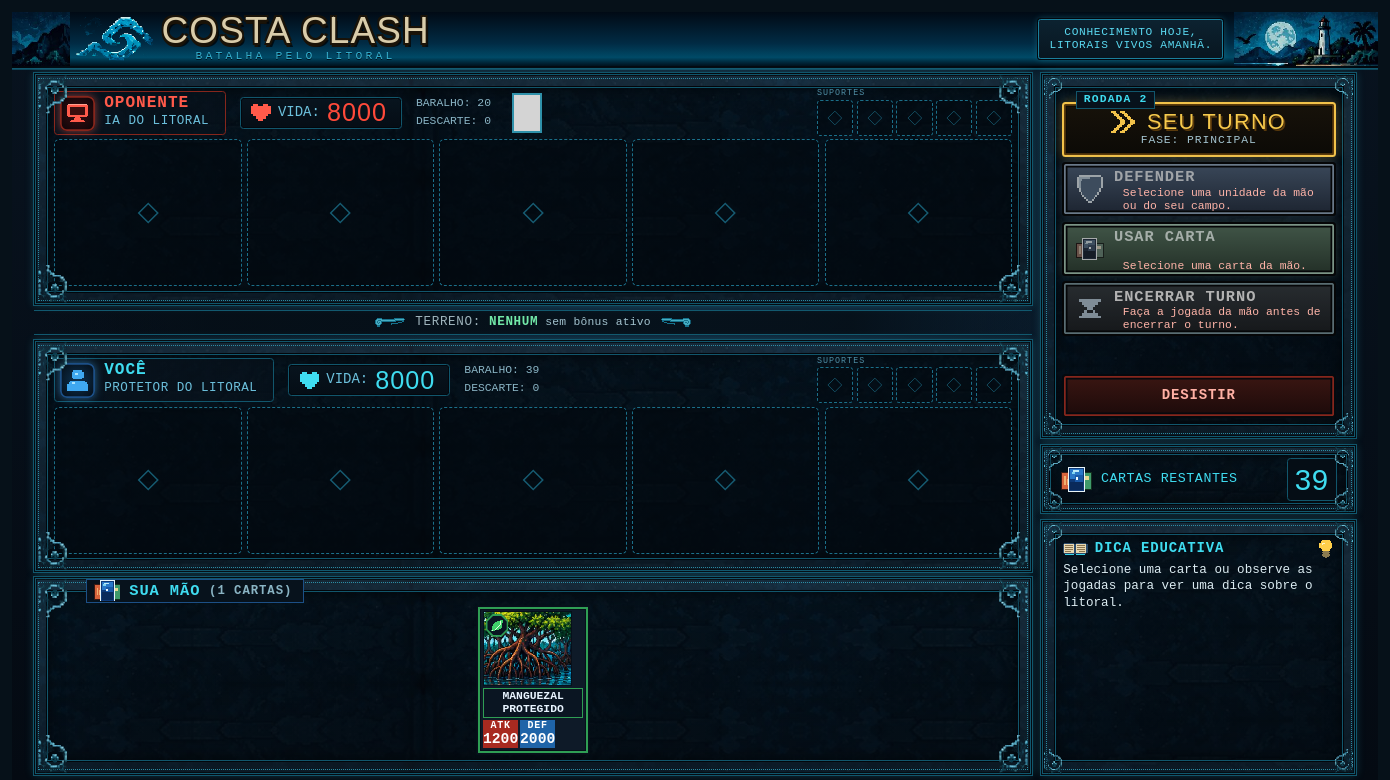
Test: mão em leque e inspeção ampliada › no toque curto seleciona e inspeciona; toque fora fecha sem apagar a seleção
Click the button with aria-label "Mão 1:" at (533, 680), box top-left (478, 607), bottom-right (588, 753)
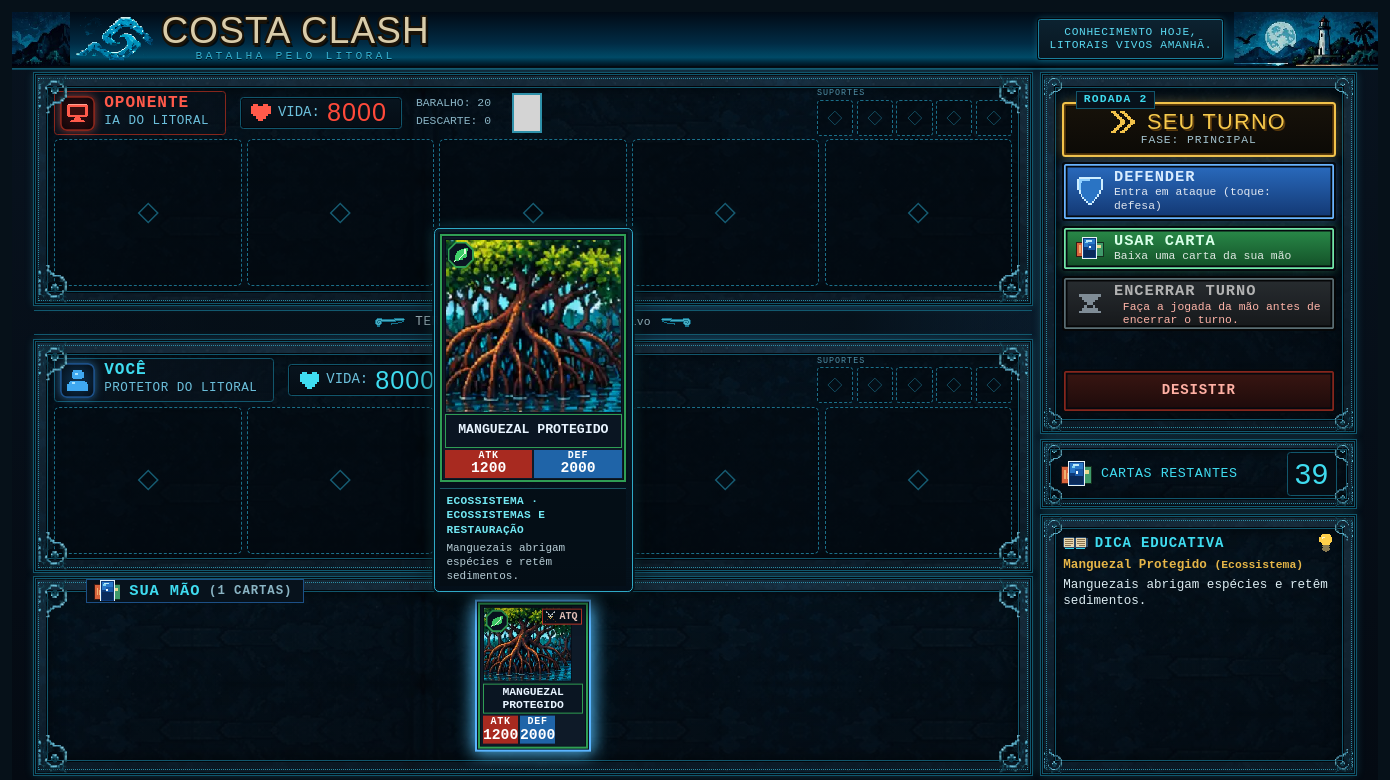
Expected: the button with aria-label "Mão 1:" is pressed, top-left (478, 602), bottom-right (588, 748)
Press the mouse on the element that starts with "Costa Clash" at (695, 396), box top-left (12, 12), bottom-right (1378, 779)
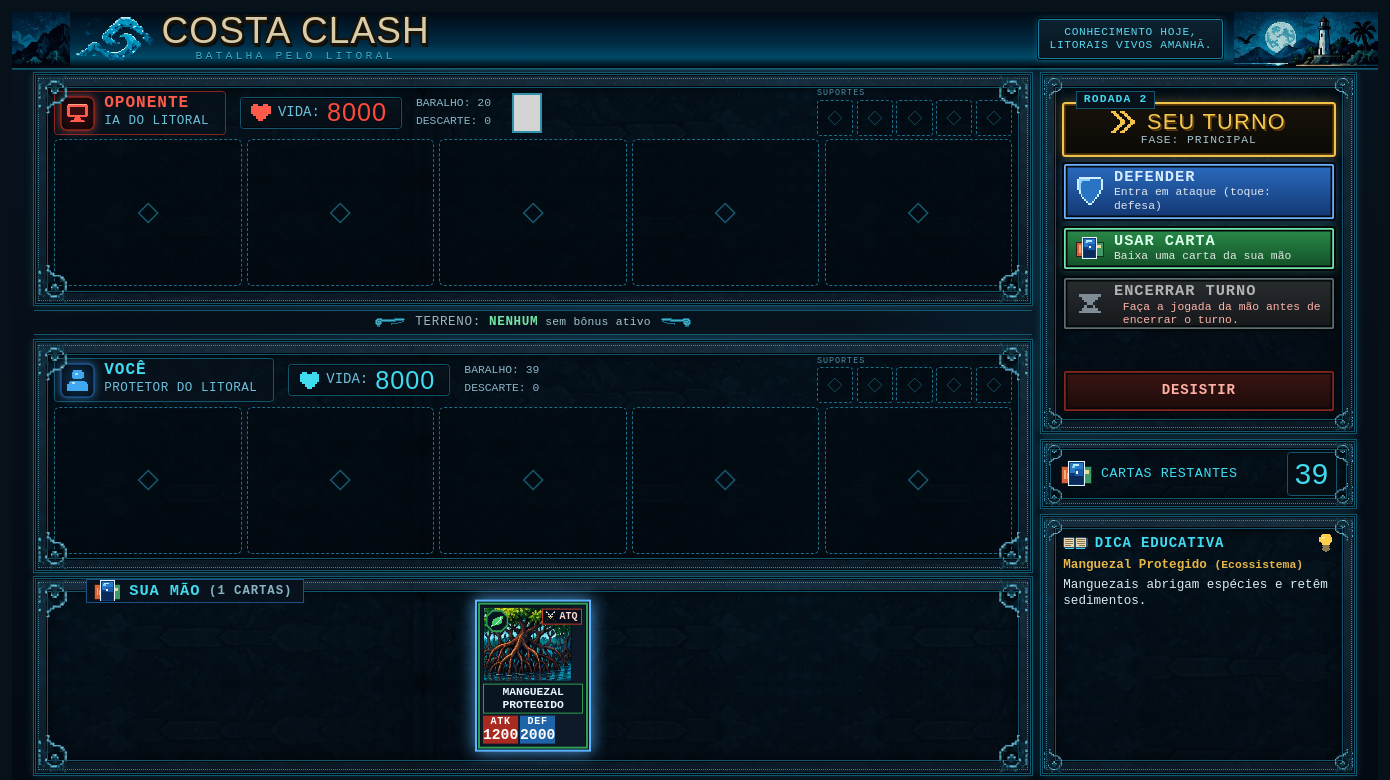
Expected: the element with class "duelo-inspecao" is gone
